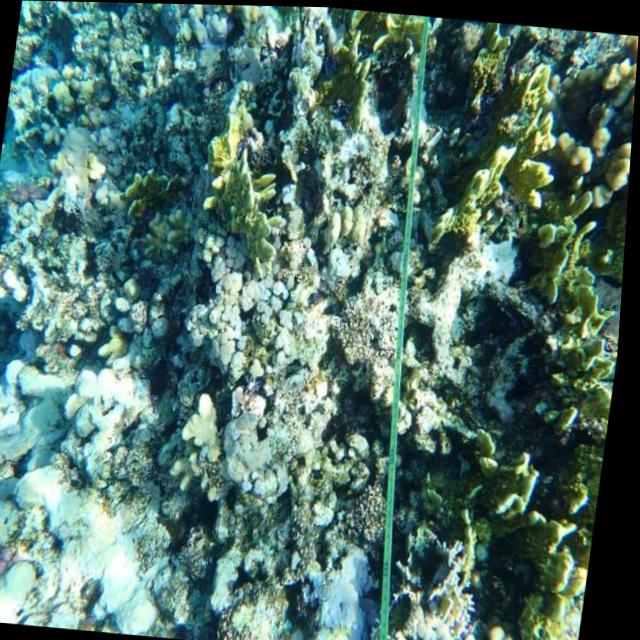Bleached Coral: (173, 235, 363, 514), (0, 492, 215, 638), (29, 338, 176, 494), (408, 223, 535, 356), (289, 527, 399, 640), (304, 97, 424, 186), (250, 4, 366, 64)
